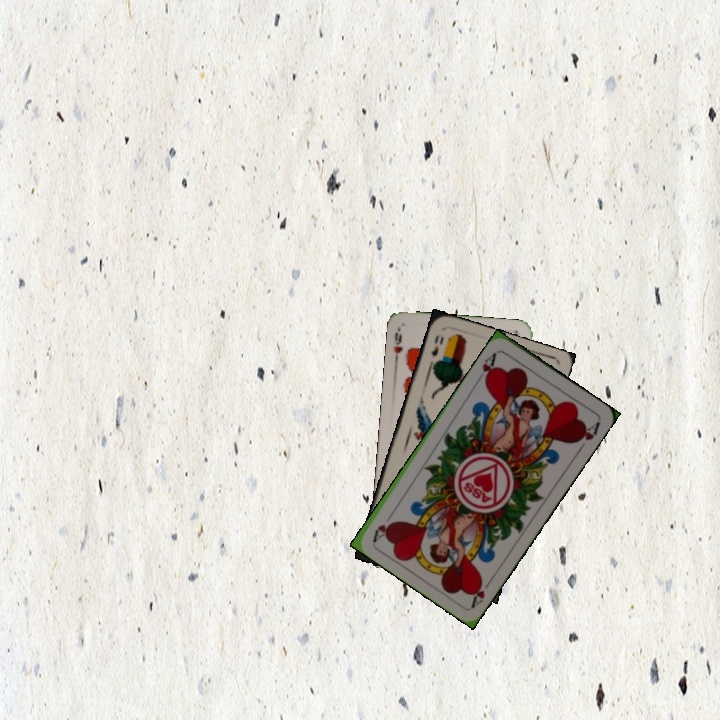EO: (426, 331, 446, 368)
H9: (390, 325, 405, 365)
HA: (473, 348, 500, 387), (467, 573, 495, 610)
